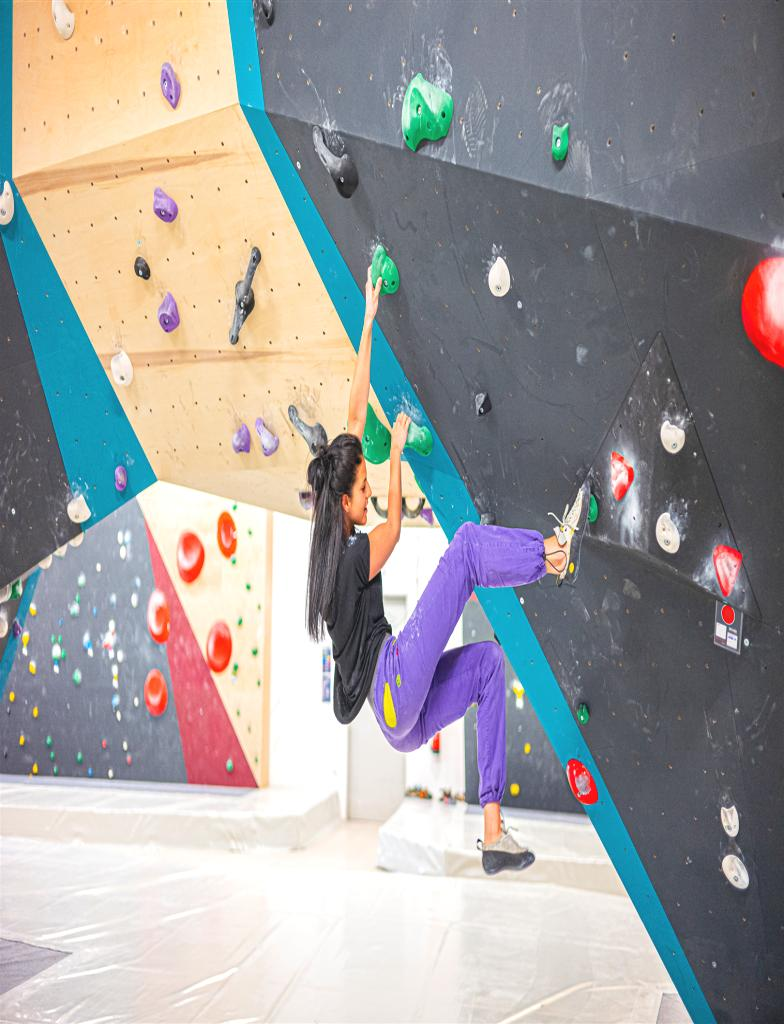crimp: (713, 545, 742, 596), (611, 452, 633, 500), (656, 512, 679, 553), (722, 854, 748, 889), (660, 421, 684, 451)
jib: (552, 124, 569, 160), (721, 805, 739, 837), (134, 256, 150, 280), (115, 466, 127, 490), (576, 702, 589, 723), (588, 495, 597, 521)
jug: (401, 73, 453, 150), (313, 127, 357, 197), (229, 247, 260, 343), (289, 404, 327, 455), (371, 245, 399, 294), (160, 63, 181, 108), (255, 417, 279, 455), (488, 256, 510, 296), (111, 351, 133, 385), (69, 494, 90, 521), (232, 424, 250, 452)
ledge: (158, 292, 180, 332), (153, 187, 178, 222)
pinch: (567, 759, 598, 804)
volume: (587, 334, 739, 597)
